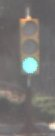Green: (19, 19, 40, 78)
